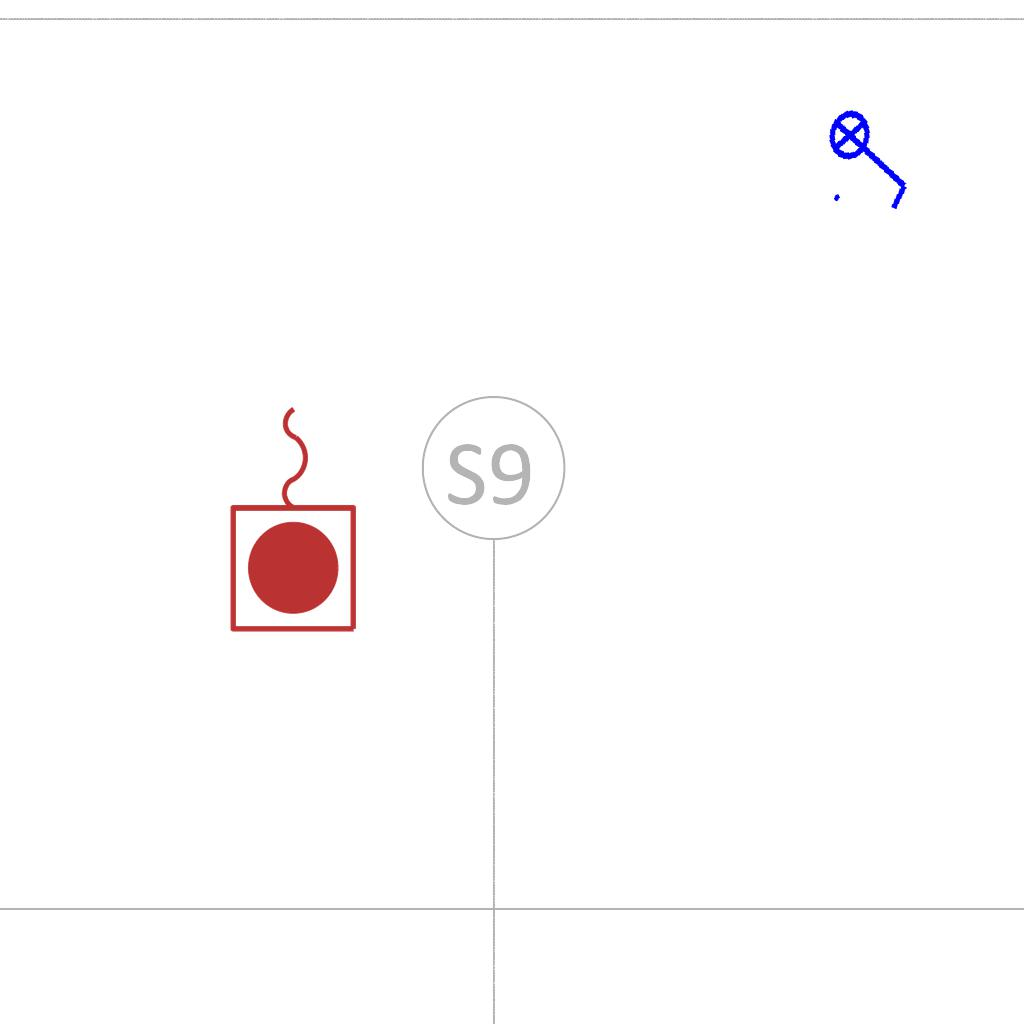Ausschalter_beleuchtet: (814, 92, 930, 222)
Zugtaster: (223, 396, 367, 640)
